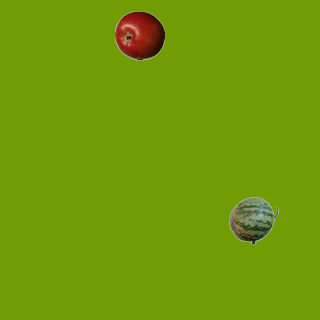Apple Braeburn: (114, 10, 164, 60)
Watermelon: (228, 195, 278, 245)
